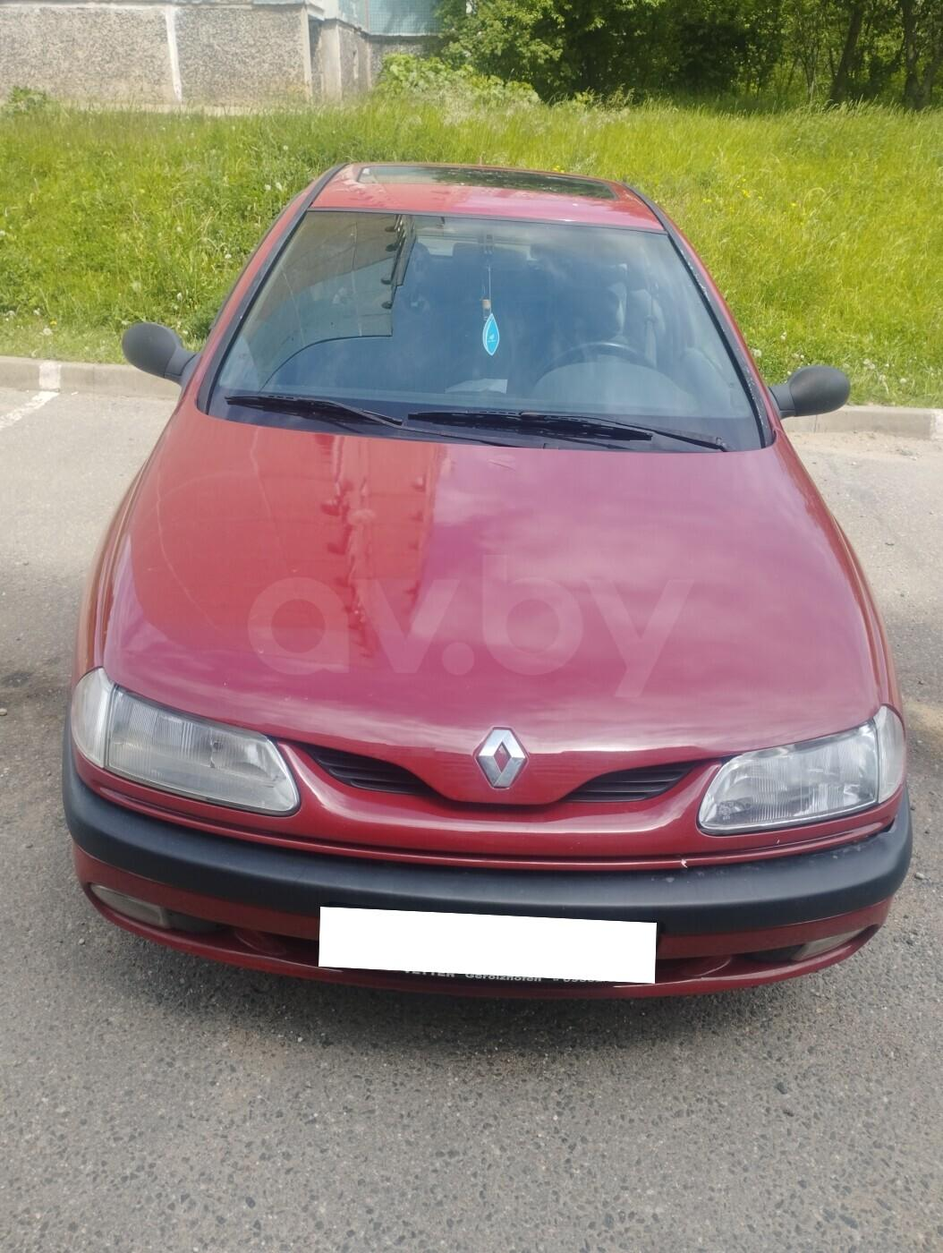Lahuna_1993-1999: (57, 140, 916, 1019)
